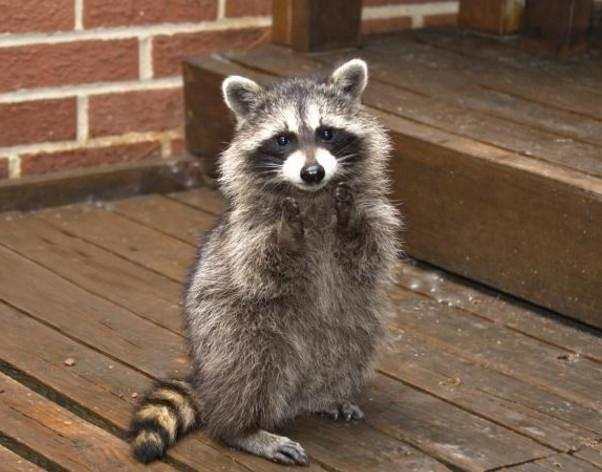raccoon: (127, 57, 407, 472)
